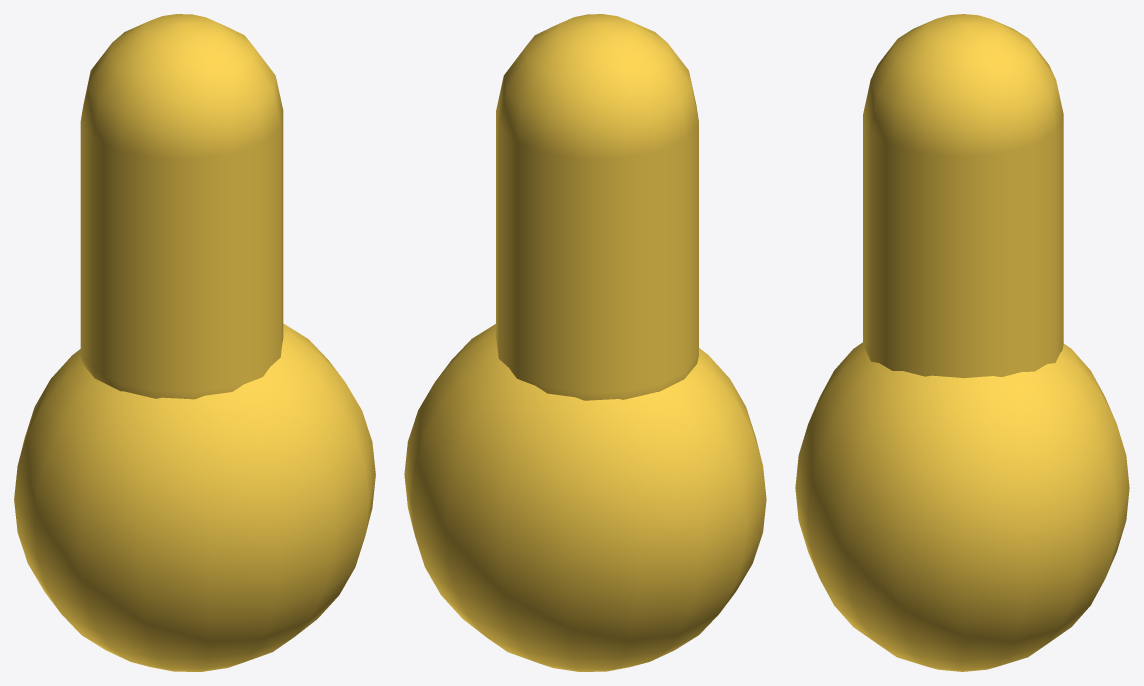
The model's file is arm-left.glb.
3 renders of one model, left to right at view 1: azimuth 30°, elevation 25°; view 2: azimuth 150°, elevation 25°; view 3: azimuth 270°, elevation 25°, orthographic.
Parts seen in each view (by area): view 1: Arm_L_Hand, Arm_L_Upper; view 2: Arm_L_Hand, Arm_L_Upper; view 3: Arm_L_Hand, Arm_L_Upper.
Boxes of the visible parts, x1,y1,x2,y2 form: Arm_L_Hand: (14, 323, 375, 671); Arm_L_Upper: (80, 14, 283, 399); Arm_L_Hand: (404, 324, 766, 671); Arm_L_Upper: (496, 14, 698, 400); Arm_L_Hand: (795, 342, 1129, 671); Arm_L_Upper: (863, 14, 1063, 378).
Size of the model in its own units: 0.1664 by 0.3152 by 0.1525.
